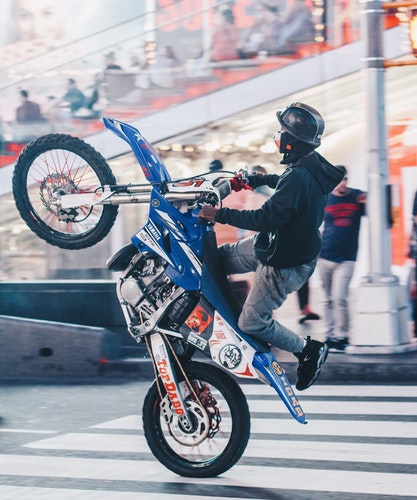helmet: (268, 94, 332, 147)
